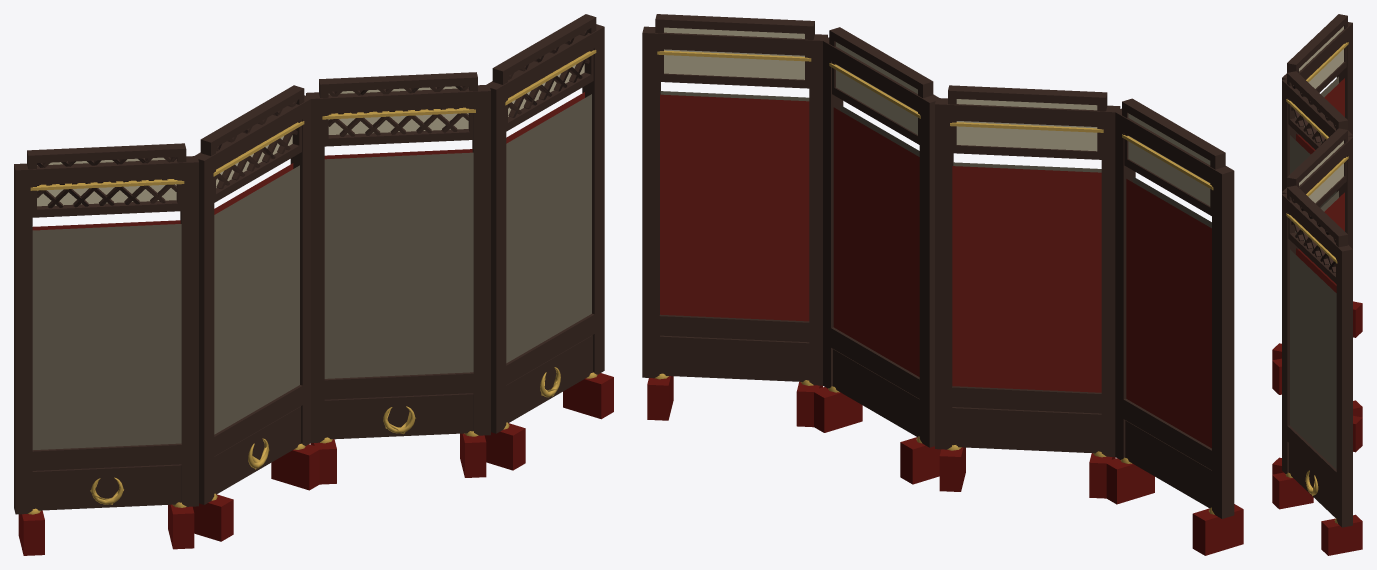
The model's file is prop_folding_screen.gltf.
The picture shows the model from 3 angles, left to right: view 1: azimuth 30°, elevation 25°; view 2: azimuth 150°, elevation 25°; view 3: azimuth 270°, elevation 25°; orthographic projection. The views are drawn at different scales.
Parts seen in each view (by area): view 1: Far, Near; view 2: Far, Near; view 3: Far, Near.
Part boxes in pixels (box(x1,y1,x2,y2)): Far: box(14, 14, 613, 555); Near: box(28, 29, 597, 514); Far: box(642, 14, 1243, 555); Near: box(655, 52, 1214, 514); Far: box(1272, 14, 1362, 555); Near: box(1285, 42, 1348, 523).
Bounding box in the file's own units: 3.18 × 2.02 × 0.5264.
Materials: 8 (6 with a texture image).
